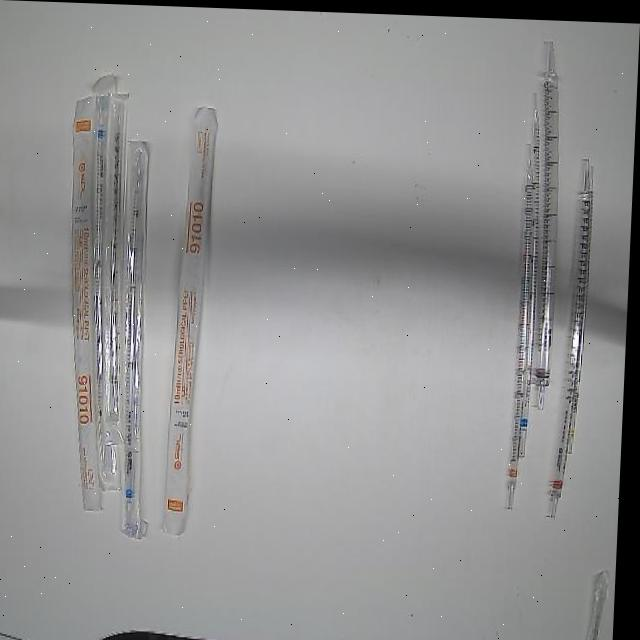Serelogical Pipet 1 mL: (565, 170, 600, 452)
Serelogical Pipet 10 mL: (161, 98, 227, 543), (58, 91, 122, 513), (510, 135, 538, 510)
Serelogical Pipet 2 mL - Sealed: (97, 86, 142, 447)
Serelogical Pipet 25 mL: (550, 155, 597, 515)
Serelogical Pipet 5 mL: (518, 88, 546, 456)
Serelogical Pipet 5 mL - Sealed: (76, 70, 141, 493), (114, 137, 170, 539)
Serelogical Pipet 50 mL: (528, 28, 570, 407)
